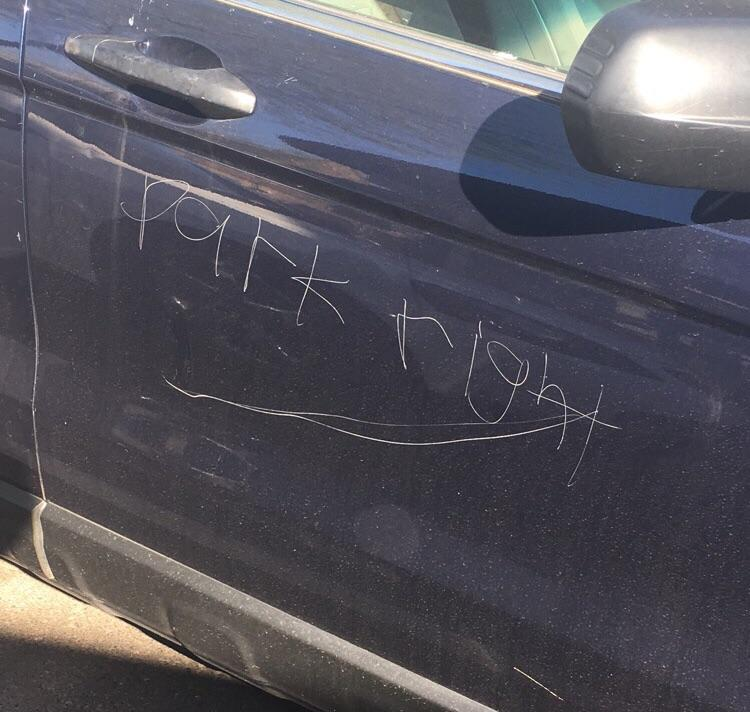scratch: (104, 166, 640, 526)
